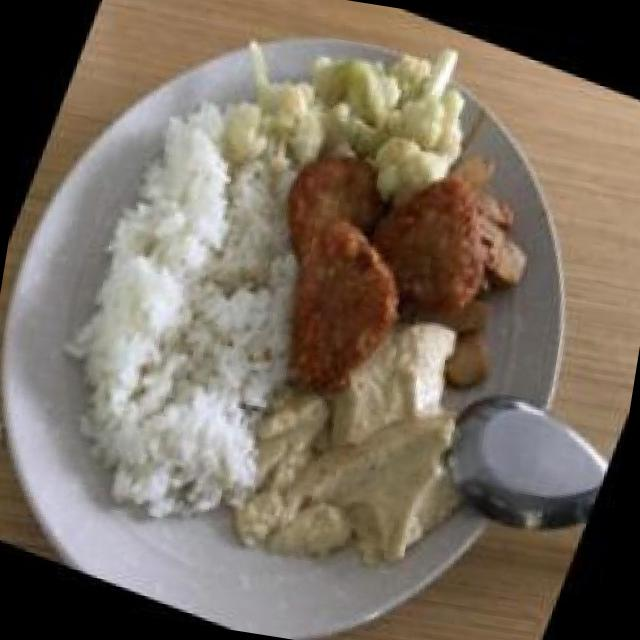rice: (19, 64, 380, 554)
triangle_hash_brown: (225, 120, 518, 430)
